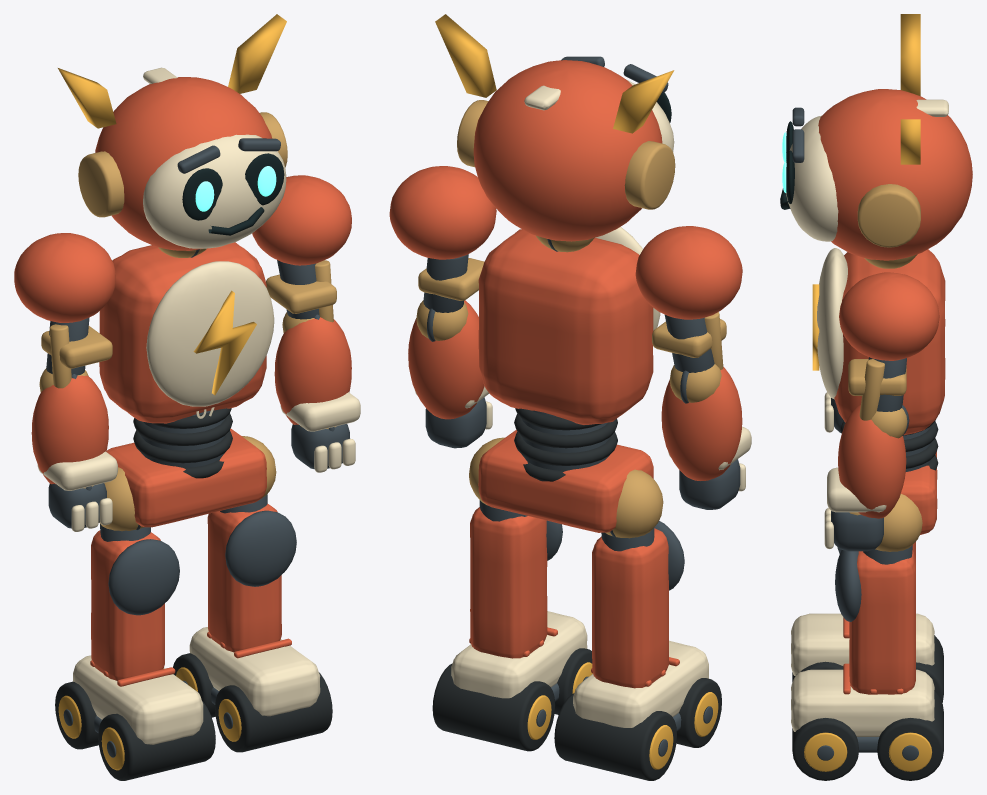
The model's file is roller_daredevil.t2.glb.
3 views of the same model, side by side, from view 1: azimuth 30°, elevation 25°; view 2: azimuth 150°, elevation 25°; view 3: azimuth 270°, elevation 25° (orthographic). The views are drawn at different scales.
Parts seen in each view (by area): view 1: slot_torso__clay_vermilion__clay, slot_torso__clay_warm_ivory__clay, slot_head__clay_vermilion__clay, slot_head__clay_warm_ivory__clay, slot_armL__clay_vermilion__clay, slot_legL__clay_vermilion__clay, slot_legR__clay_vermilion__clay, slot_armR__clay_vermilion__clay, slot_legL__clay_warm_ivory__clay, slot_legR__clay_warm_ivory__clay, armR_elbow__clay_vermilion__clay, armL_elbow__clay_vermilion__clay (+25 smaller); view 2: slot_torso__clay_vermilion__clay, slot_head__clay_vermilion__clay, slot_legL__clay_vermilion__clay, slot_legR__clay_vermilion__clay, slot_armL__clay_vermilion__clay, slot_armR__clay_vermilion__clay, slot_legL__charcoal_rubber__protected, slot_legR__charcoal_rubber__protected, armL_elbow__clay_vermilion__clay, armR_elbow__clay_vermilion__clay, slot_legR__clay_warm_ivory__clay, slot_legL__clay_warm_ivory__clay (+18 smaller); view 3: slot_head__clay_vermilion__clay, slot_legR__clay_vermilion__clay, slot_torso__clay_vermilion__clay, slot_armR__clay_vermilion__clay, slot_legR__clay_warm_ivory__clay, armR_elbow__clay_vermilion__clay, slot_legR__charcoal_rubber__protected, slot_head__clay_warm_ivory__clay, slot_legL__clay_warm_ivory__clay, slot_torso__clay_warm_ivory__clay, slot_head__worn_warm_brass__protected, slot_armR__worn_warm_brass__protected (+14 smaller).
Boxes of the visible parts, <box> form: slot_torso__clay_vermilion__clay: <box>99,242,266,527</box>; slot_torso__clay_warm_ivory__clay: <box>146,261,274,406</box>; slot_head__clay_vermilion__clay: <box>95,77,272,250</box>; slot_head__clay_warm_ivory__clay: <box>143,134,286,248</box>; slot_armL__clay_vermilion__clay: <box>14,233,115,322</box>; slot_legL__clay_vermilion__clay: <box>91,530,164,680</box>; slot_legR__clay_vermilion__clay: <box>207,504,281,652</box>; slot_armR__clay_vermilion__clay: <box>252,175,351,265</box>; slot_legL__clay_warm_ivory__clay: <box>73,655,203,744</box>; slot_legR__clay_warm_ivory__clay: <box>189,627,320,716</box>; armR_elbow__clay_vermilion__clay: <box>274,317,351,424</box>; armL_elbow__clay_vermilion__clay: <box>31,375,108,484</box>; slot_torso__clay_vermilion__clay: <box>478,229,653,532</box>; slot_head__clay_vermilion__clay: <box>473,60,662,241</box>; slot_legL__clay_vermilion__clay: <box>592,528,669,688</box>; slot_legR__clay_vermilion__clay: <box>470,507,547,658</box>; slot_armL__clay_vermilion__clay: <box>635,226,742,319</box>; slot_armR__clay_vermilion__clay: <box>389,166,496,259</box>; slot_legL__charcoal_rubber__protected: <box>554,678,721,780</box>; slot_legR__charcoal_rubber__protected: <box>432,648,592,751</box>; armL_elbow__clay_vermilion__clay: <box>661,367,742,480</box>; armR_elbow__clay_vermilion__clay: <box>408,300,484,419</box>; slot_legR__clay_warm_ivory__clay: <box>451,611,587,698</box>; slot_legL__clay_warm_ivory__clay: <box>573,640,708,727</box>; slot_head__clay_vermilion__clay: <box>818,89,972,260</box>; slot_legR__clay_vermilion__clay: <box>849,551,915,694</box>; slot_torso__clay_vermilion__clay: <box>834,249,945,534</box>; slot_armR__clay_vermilion__clay: <box>839,272,939,360</box>; slot_legR__clay_warm_ivory__clay: <box>791,669,934,736</box>; armR_elbow__clay_vermilion__clay: <box>838,405,906,518</box>; slot_legR__charcoal_rubber__protected: <box>792,691,943,780</box>; slot_head__clay_warm_ivory__clay: <box>786,115,838,241</box>; slot_legL__clay_warm_ivory__clay: <box>791,613,934,675</box>; slot_torso__clay_warm_ivory__clay: <box>817,248,847,399</box>; slot_head__worn_warm_brass__protected: <box>857,184,920,247</box>; slot_armR__worn_warm_brass__protected: <box>848,359,907,438</box>.
Size of the model in its own units: 1.25 by 2.5 by 0.6543.
